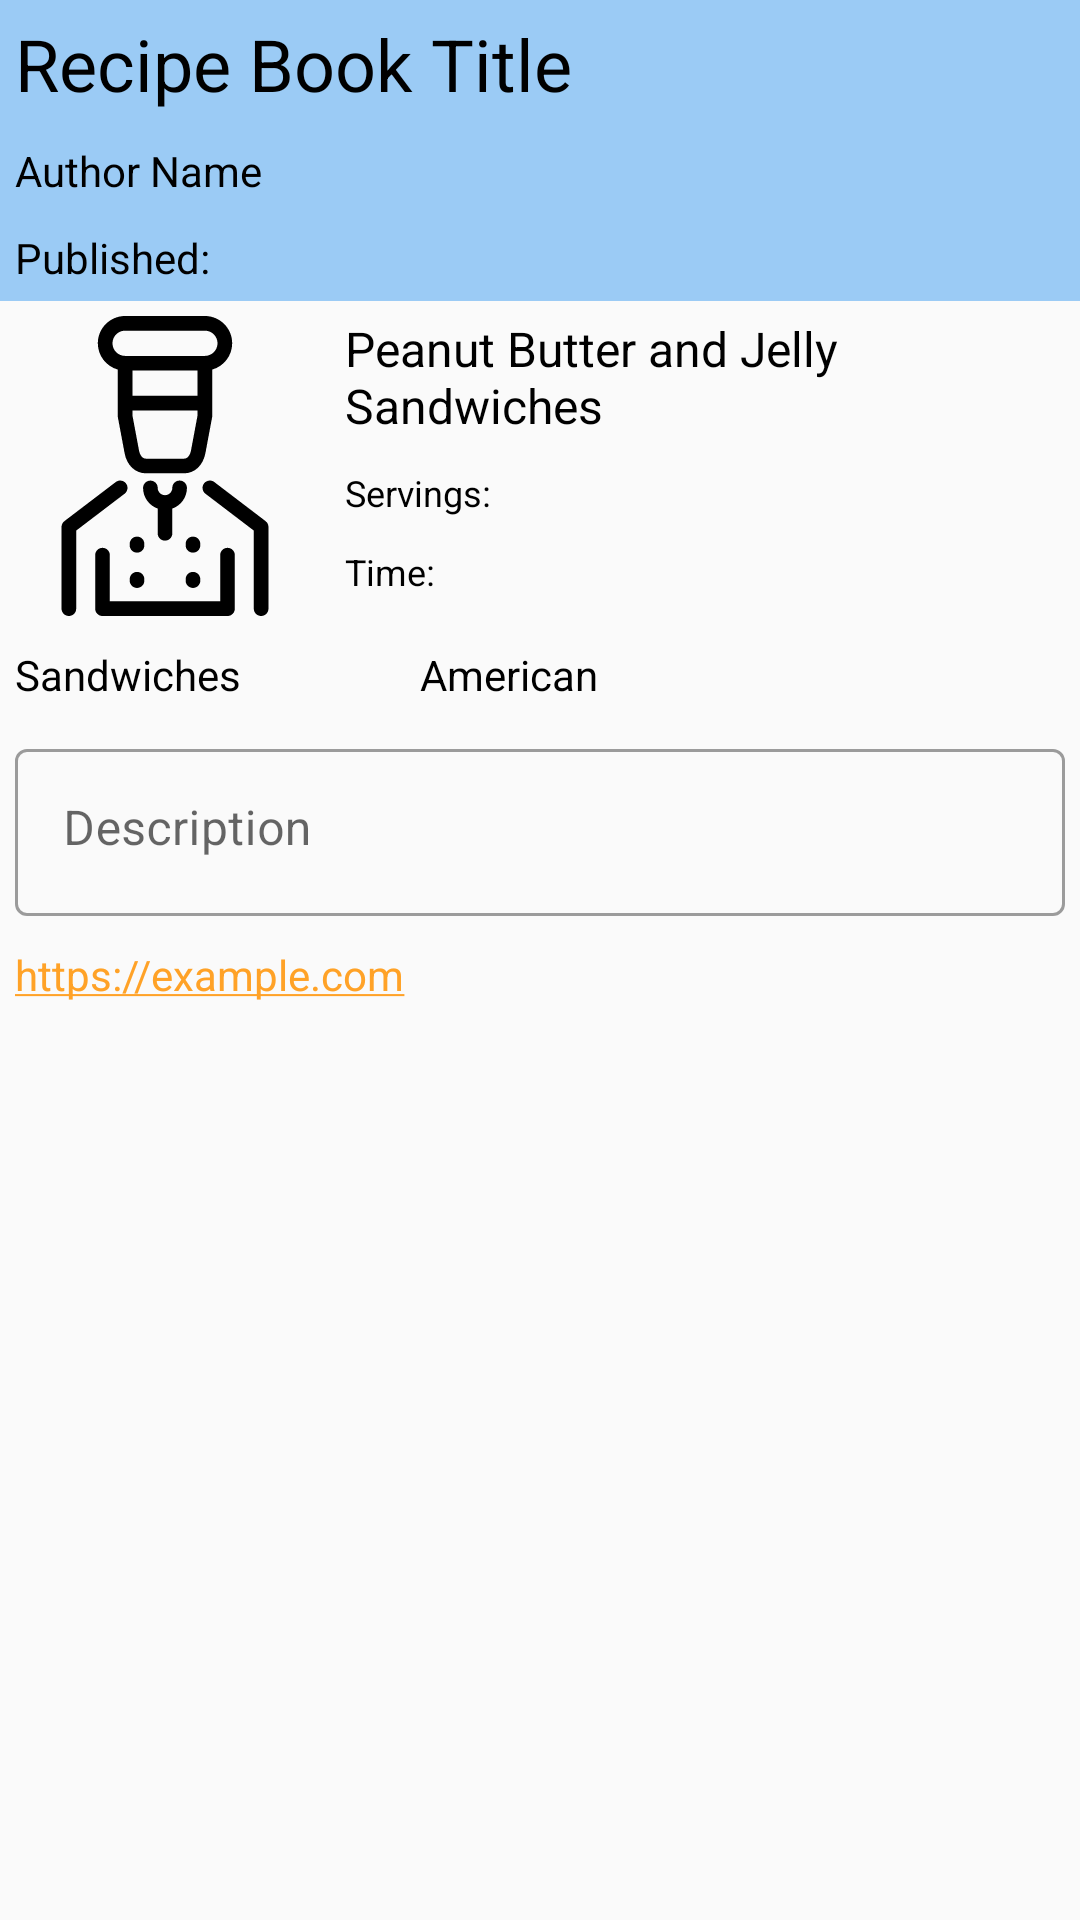

Icon bounding boxes for this 1080×1920 phone screenshot, format (left=x1, top=y1, right=x2, bottom=y2):
chef: (left=61, top=316, right=269, bottom=616)
